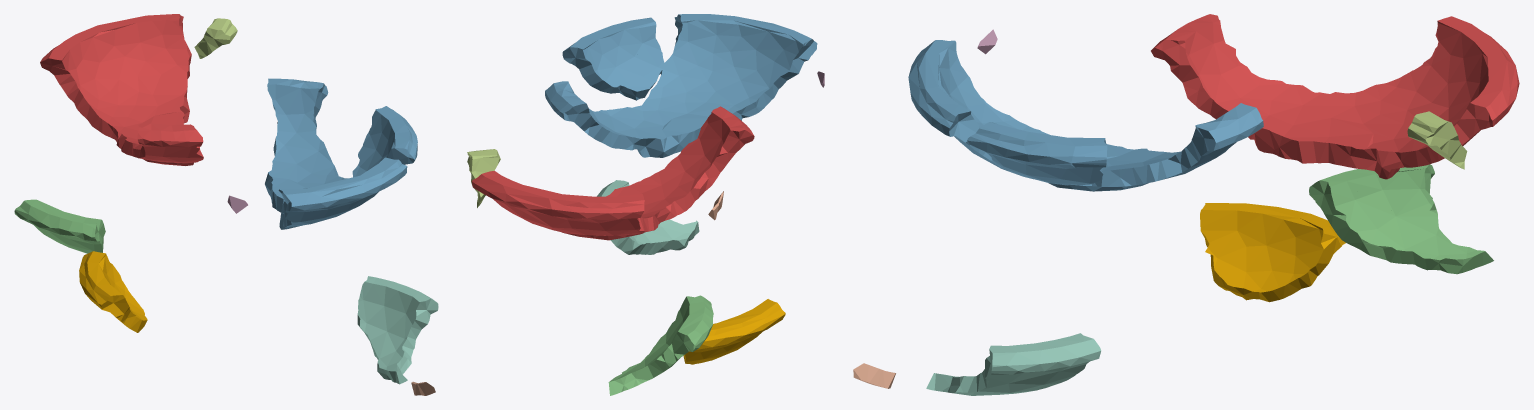
The model's file is fractured_11_8pcs_transformed.glb.
3 renders of one model, left to right at view 1: azimuth 30°, elevation 25°; view 2: azimuth 150°, elevation 25°; view 3: azimuth 270°, elevation 25°, orthographic. The views are drawn at different scales.
Parts seen in each view (by area): view 1: piece_1.obj, piece_2.obj, piece_4.obj, piece_0.obj, piece_3.obj, piece_5.obj; view 2: piece_2.obj, piece_1.obj, piece_3.obj, piece_0.obj, piece_4.obj, piece_5.obj; view 3: piece_1.obj, piece_2.obj, piece_3.obj, piece_0.obj, piece_4.obj, piece_5.obj, piece_7.obj.
Part boxes in pixels (x1=…): piece_1.obj: x1=40, y1=14, x2=203, y2=165; piece_2.obj: x1=265, y1=78, x2=417, y2=229; piece_4.obj: x1=357, y1=276, x2=438, y2=384; piece_0.obj: x1=79, y1=251, x2=147, y2=332; piece_3.obj: x1=14, y1=199, x2=105, y2=253; piece_5.obj: x1=194, y1=18, x2=237, y2=58; piece_2.obj: x1=545, y1=14, x2=817, y2=157; piece_1.obj: x1=471, y1=106, x2=754, y2=240; piece_3.obj: x1=608, y1=295, x2=713, y2=395; piece_0.obj: x1=683, y1=299, x2=785, y2=364; piece_4.obj: x1=597, y1=180, x2=699, y2=254; piece_5.obj: x1=467, y1=149, x2=500, y2=207; piece_1.obj: x1=1151, y1=14, x2=1519, y2=179; piece_2.obj: x1=908, y1=40, x2=1263, y2=191; piece_3.obj: x1=1309, y1=164, x2=1493, y2=274; piece_0.obj: x1=1200, y1=203, x2=1345, y2=302; piece_4.obj: x1=926, y1=333, x2=1101, y2=395; piece_5.obj: x1=1407, y1=111, x2=1467, y2=169; piece_7.obj: x1=853, y1=363, x2=895, y2=388.
Bounding box in the file's own units: 0.9973 × 0.8219 × 1.74.
